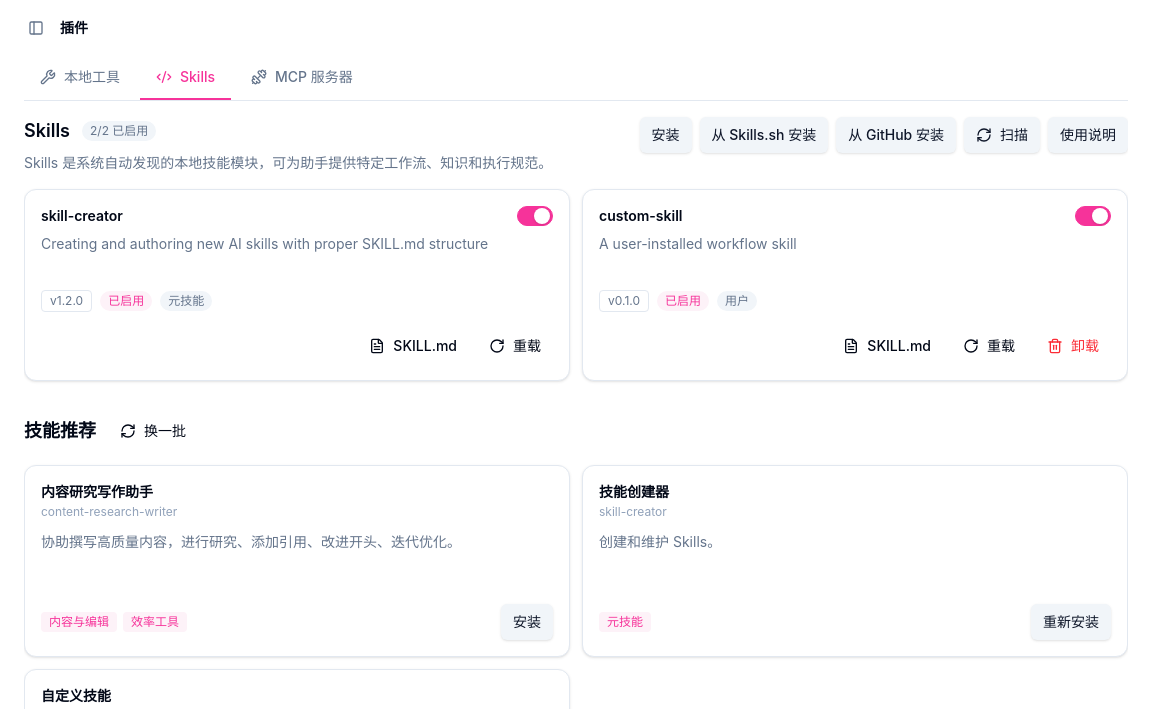
PluginsPage › opens a Guada-style SKILL.md documentation dialog
The width and height of the screenshot is (1152, 709).
Check: the heading "skill-creator" is shown, box [41, 207, 123, 224]
Click the 1st button "SKILL.md" at [413, 346], box [357, 328, 469, 364]
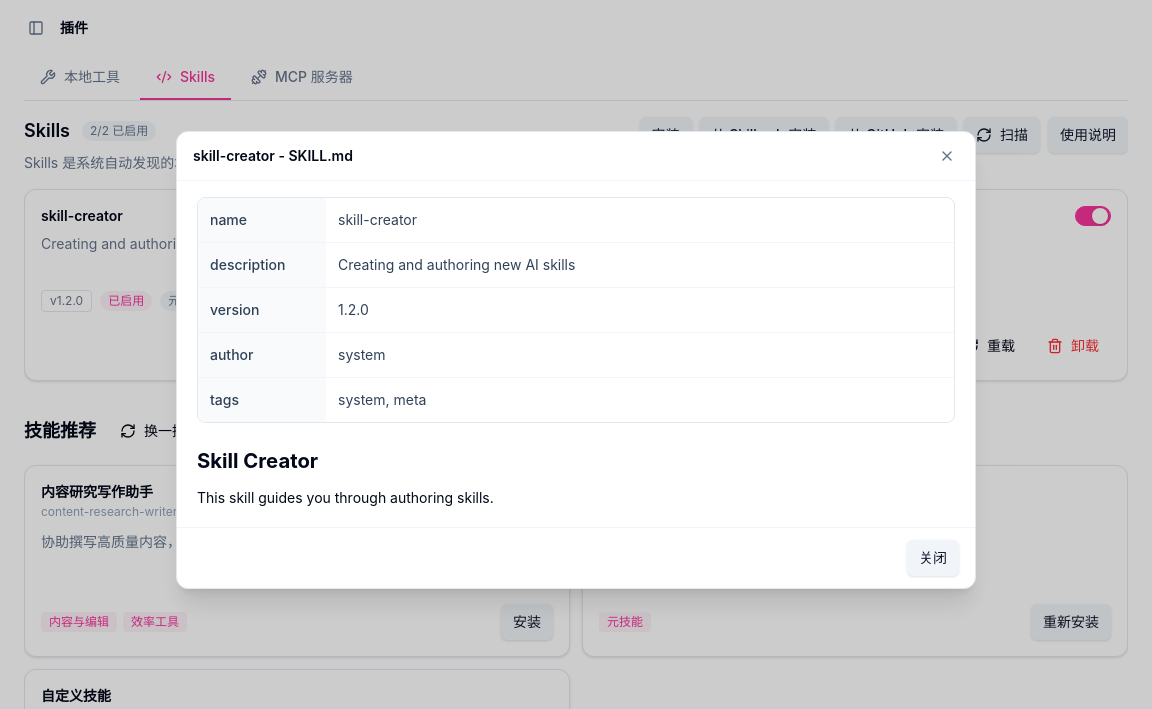
Check: the dialog "skill-creator - SKILL.md" is shown, box [176, 132, 976, 589]
Check: the cell "name" is shown, box [198, 198, 326, 243]
Check: the cell "skill-creator" is shown, box [326, 198, 954, 243]
Click the button "关闭" at [933, 558], box [907, 540, 959, 576]
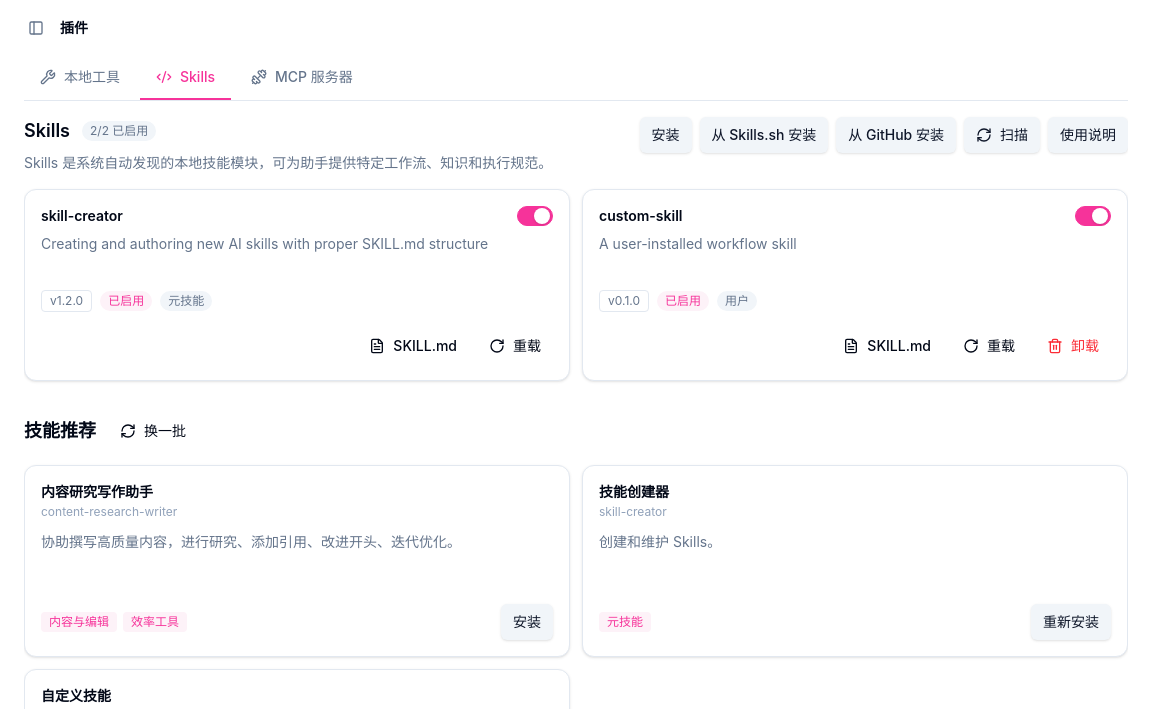
Check: the heading "skill-creator - SKILL.md" is gone
